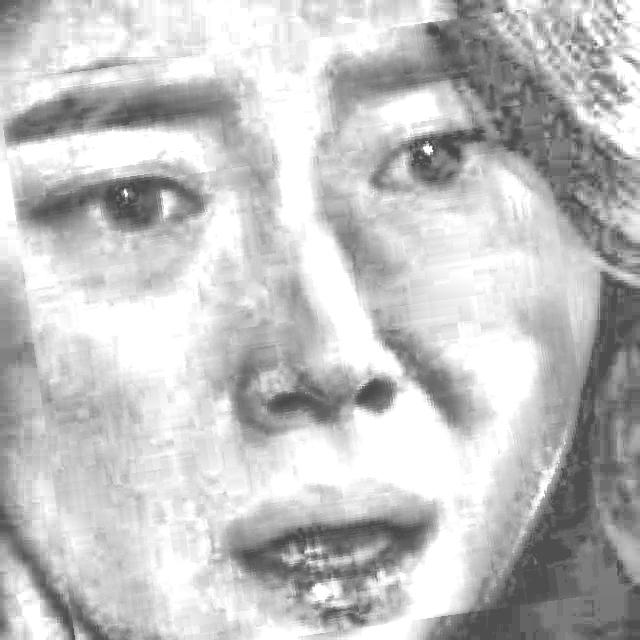fear: (16, 25, 589, 640)
